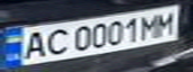0: (69, 22, 93, 52), (90, 20, 112, 48), (106, 17, 127, 46)
1: (121, 16, 142, 43)
A: (15, 28, 51, 61)
C: (39, 26, 72, 57)
M: (151, 8, 181, 37), (136, 11, 163, 39)
